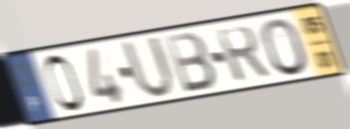0: (43, 52, 86, 114)
4: (86, 44, 125, 107)
B: (162, 30, 219, 96)
O: (259, 16, 311, 79)
R: (213, 23, 273, 84)
U: (118, 34, 177, 102)
